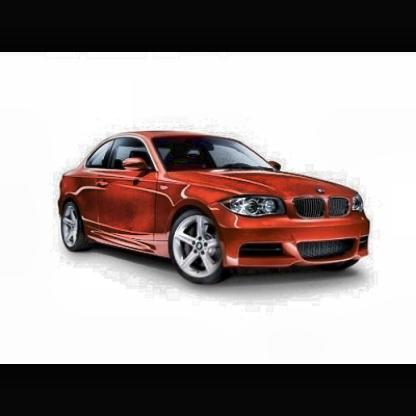BMW 1 Series Coupe 2012: (50, 118, 396, 318)
